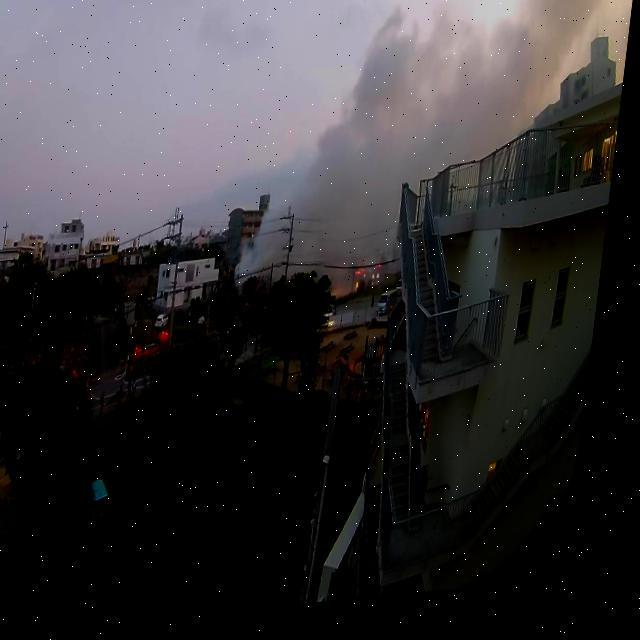Fire: (362, 272, 374, 285)
